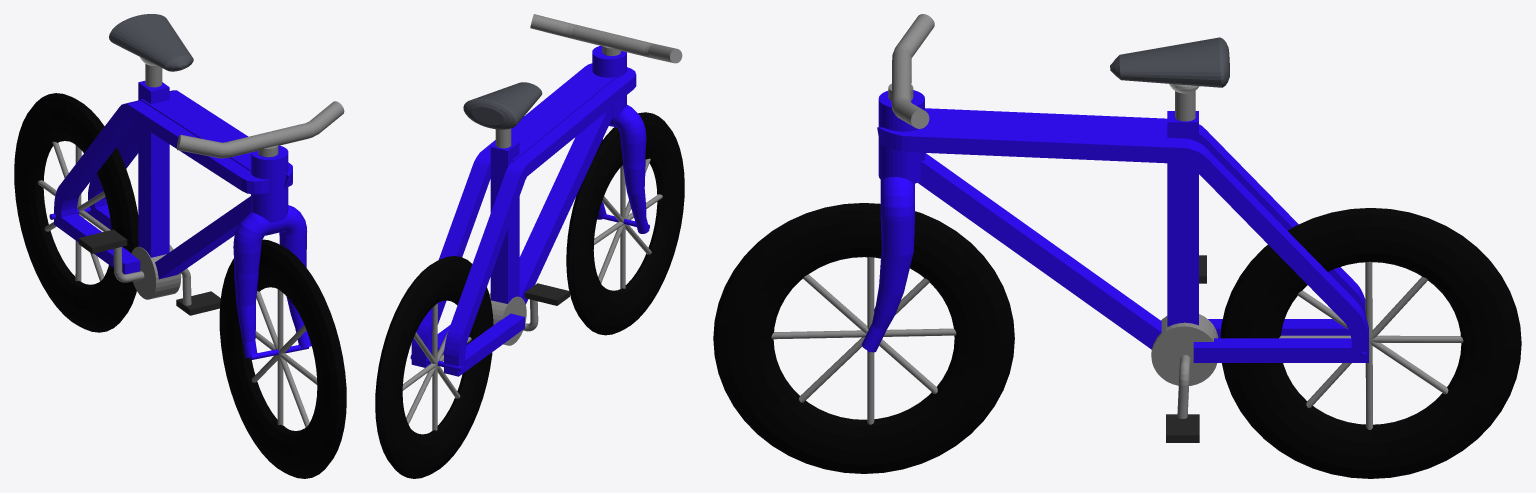
File: bicicleta.fbx
3 renders of one model, left to right at view 1: azimuth 30°, elevation 25°; view 2: azimuth 150°, elevation 25°; view 3: azimuth 270°, elevation 25°, orthographic. The views are drawn at different scales.
Visible parts, largest first — view 1: Rosca, Rosca.001, Cube.001, Cilindro.002, Cubo.001, Cube, Cylinder, Cylinder.002, Cubo, Cilindro.001, Cilindro, Cylinder.003 (+9 smaller); view 2: Rosca, Rosca.001, Cube.001, Cube, Cubo, Cubo.001, Cilindro.002, Cylinder, Cylinder.002, Cilindro.001, Cilindro, Cylinder.007 (+7 smaller); view 3: Rosca, Rosca.001, Cube, Cubo, Cubo.001, Cube.001, Cilindro.002, Cylinder, Cilindro, Cylinder.002, Cilindro.001, Cylinder.004 (+8 smaller).
Part boxes in pixels (left/top/right/bottom): Rosca: left=219, top=239, right=346, bottom=478; Rosca.001: left=14, top=93, right=138, bottom=332; Cube.001: left=54, top=100, right=269, bottom=274; Cilindro.002: left=233, top=205, right=311, bottom=357; Cubo.001: left=138, top=80, right=169, bottom=257; Cube: left=88, top=90, right=292, bottom=229; Cylinder: left=109, top=14, right=193, bottom=71; Cylinder.002: left=176, top=101, right=344, bottom=158; Cubo: left=155, top=196, right=250, bottom=279; Cilindro.001: left=251, top=145, right=288, bottom=222; Cilindro: left=131, top=245, right=181, bottom=299; Cylinder.003: left=277, top=289, right=283, bottom=425; Rosca: left=566, top=112, right=684, bottom=335; Rosca.001: left=375, top=256, right=493, bottom=478; Cube.001: left=444, top=67, right=636, bottom=376; Cube: left=411, top=63, right=616, bottom=367; Cubo: left=519, top=108, right=612, bottom=304; Cubo.001: left=490, top=140, right=519, bottom=303; Cilindro.002: left=597, top=105, right=649, bottom=233; Cylinder: left=463, top=82, right=542, bottom=129; Cylinder.002: left=530, top=14, right=682, bottom=63; Cilindro.001: left=592, top=46, right=626, bottom=117; Cilindro: left=489, top=293, right=526, bottom=345; Cylinder.007: left=432, top=303, right=437, bottom=430; Rosca: left=713, top=203, right=1014, bottom=473; Rosca.001: left=1220, top=208, right=1521, bottom=478; Cube: left=877, top=115, right=1368, bottom=362; Cubo: left=918, top=153, right=1161, bottom=349; Cubo.001: left=1167, top=111, right=1198, bottom=326; Cube.001: left=925, top=108, right=1365, bottom=338; Cilindro.002: left=861, top=177, right=914, bottom=352; Cylinder: left=1110, top=37, right=1229, bottom=87; Cilindro: left=1151, top=314, right=1218, bottom=385; Cylinder.002: left=891, top=14, right=934, bottom=128; Cilindro.001: left=878, top=90, right=924, bottom=183; Cylinder.004: left=771, top=328, right=956, bottom=339.
Size of the model in its own units: 84.37 by 174 by 294.
